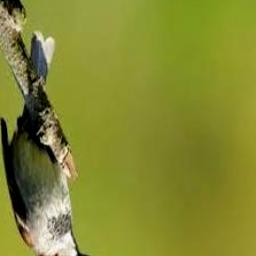Sparrow: (0, 32, 91, 256)
